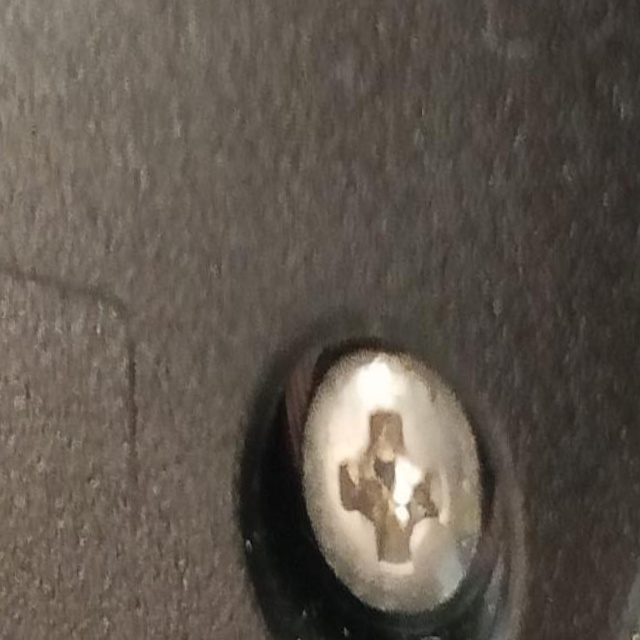phillips: (292, 340, 492, 630)
